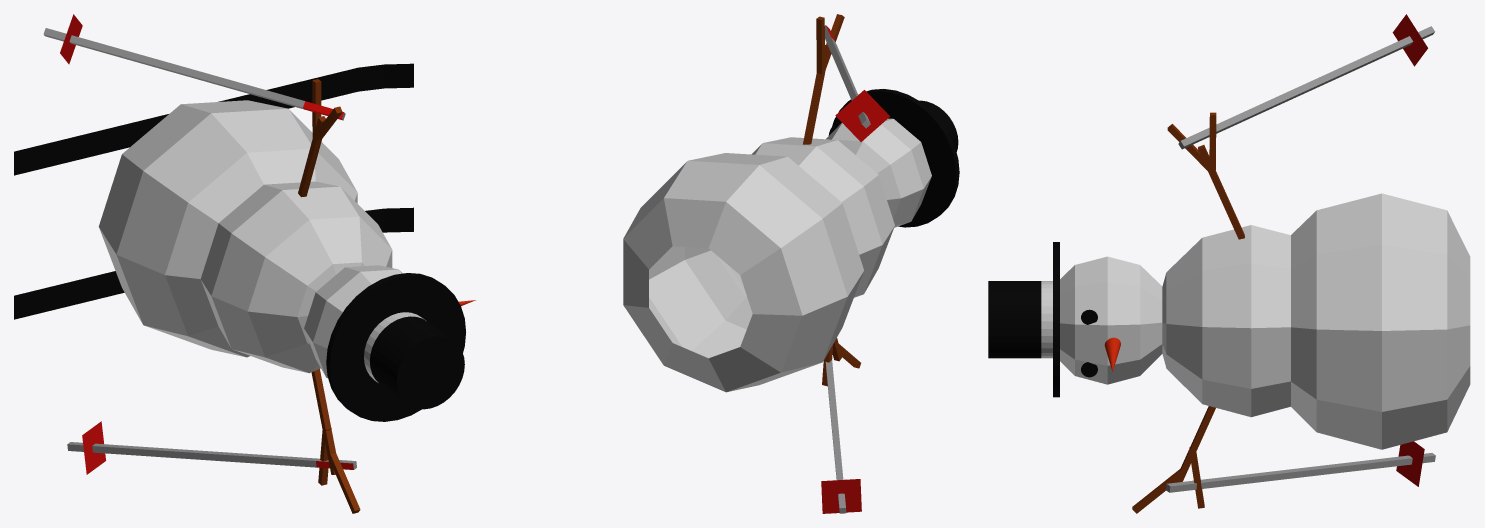
File: Snowman.obj
The picture shows the model from 3 angles, left to right: view 1: azimuth 30°, elevation 25°; view 2: azimuth 150°, elevation 25°; view 3: azimuth 270°, elevation 25°; orthographic projection. The views are drawn at different scales.
Visible parts, largest first — view 1: Circle.004; view 2: Circle.004; view 3: Circle.004.
Part boxes in pixels (x1,y1,x2,y2): Circle.004: (14, 14, 475, 513); Circle.004: (623, 14, 959, 513); Circle.004: (988, 14, 1470, 513).
Bounding box in the file's own units: 3.4 × 3.84 × 3.69.
